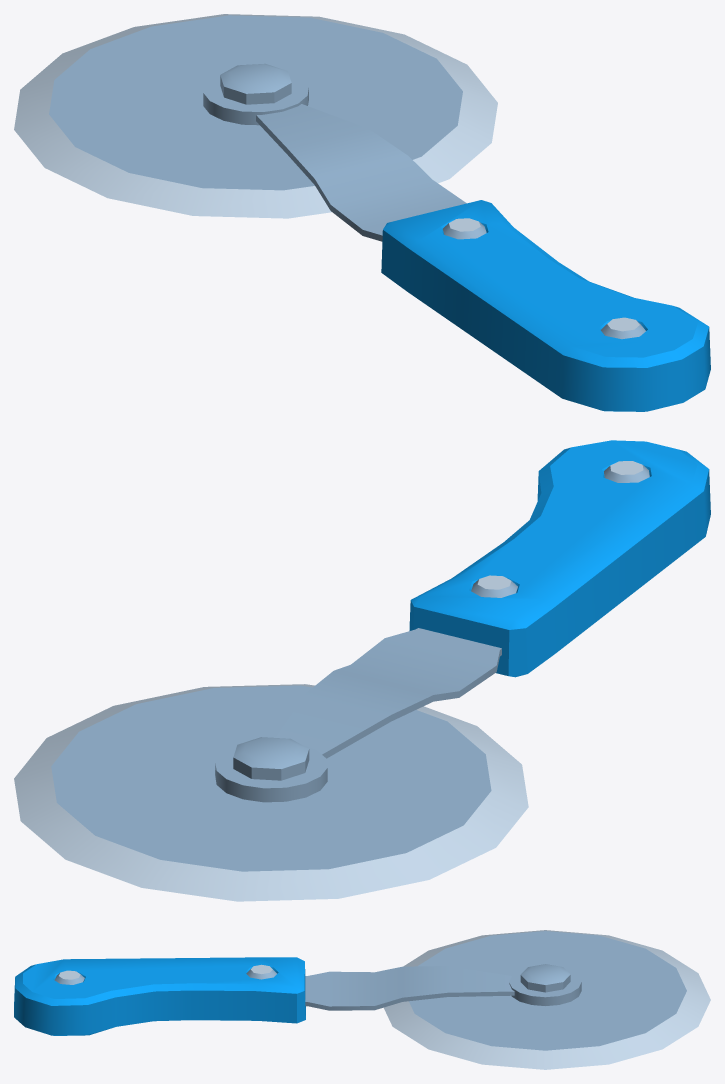
File: PizzaKnife.fbx
3 renders of one model, top to bottom at view 1: azimuth 30°, elevation 25°; view 2: azimuth 150°, elevation 25°; view 3: azimuth 270°, elevation 25°, orthographic. The views are drawn at different scales.
Visible parts, largest first — view 1: PizzaKnife; view 2: PizzaKnife; view 3: PizzaKnife.
Boxes of the visible parts, bbox=[...] form: PizzaKnife: bbox=[14, 14, 710, 411]; PizzaKnife: bbox=[14, 440, 710, 901]; PizzaKnife: bbox=[14, 930, 710, 1069].
Bounding box in the file's own units: 1.44 × 0.2193 × 3.03.
